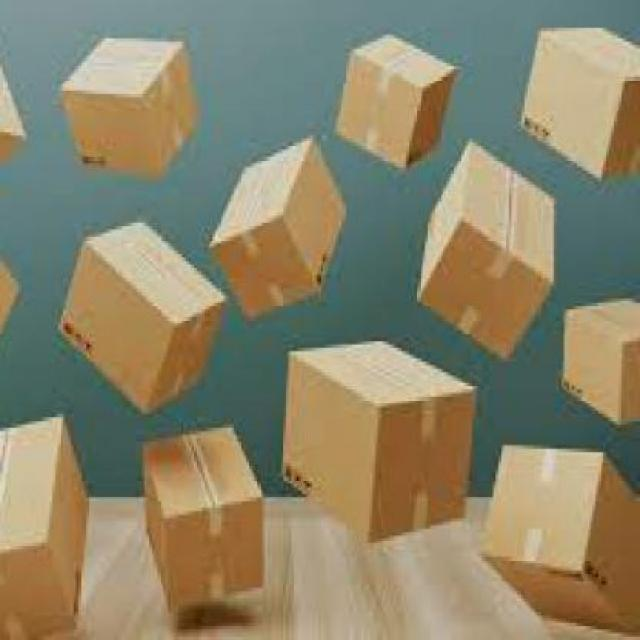box: (282, 338, 476, 570), (55, 223, 228, 424), (416, 128, 562, 366), (482, 434, 638, 636), (139, 423, 273, 620), (216, 132, 350, 320), (54, 30, 214, 184), (0, 414, 100, 637), (516, 13, 638, 192), (335, 31, 457, 178), (556, 292, 638, 438), (0, 27, 32, 195), (0, 218, 25, 394)
